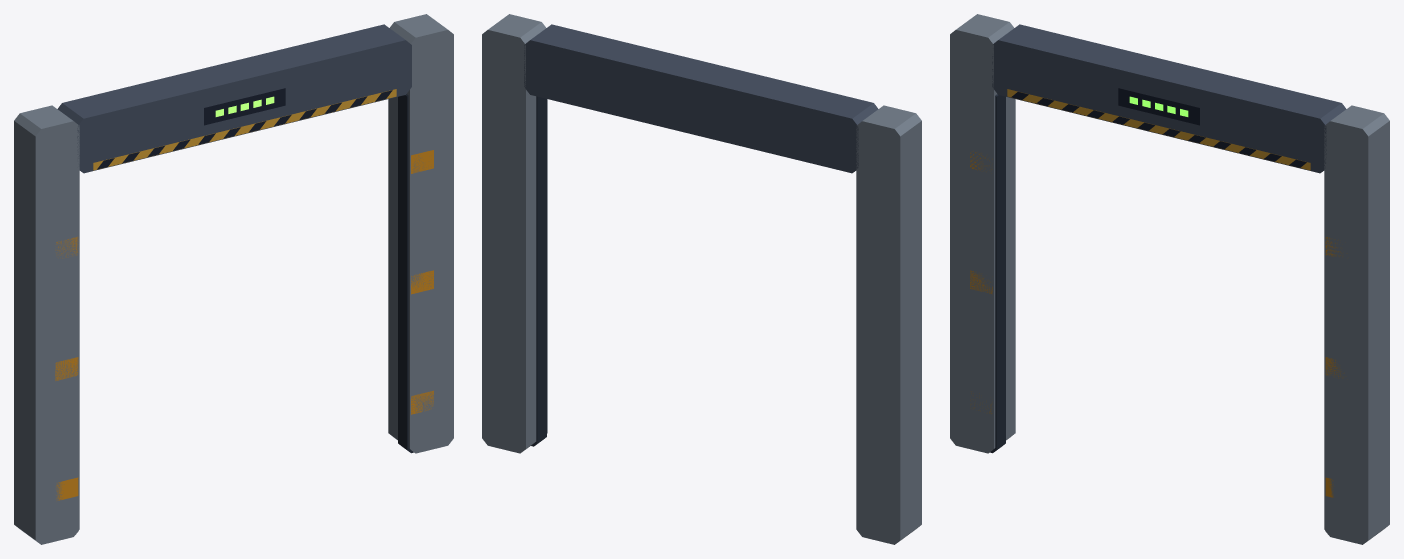
File: fus_blast_door_frame.glb
3 renders of one model, left to right at view 1: azimuth 30°, elevation 25°; view 2: azimuth 150°, elevation 25°; view 3: azimuth 330°, elevation 25°, orthographic.
Visible parts, largest first — view 1: armored_jamb, pressure_header, retracted_leaf, pressure_display, locking_dog, warning_band; view 2: armored_jamb, pressure_header, retracted_leaf; view 3: armored_jamb, pressure_header, retracted_leaf, pressure_display, warning_band, locking_dog.
Part boxes in pixels (bbox=[...]): armored_jamb: bbox=[14, 14, 453, 544]; pressure_header: bbox=[57, 24, 411, 173]; retracted_leaf: bbox=[77, 94, 413, 532]; pressure_display: bbox=[97, 88, 392, 169]; locking_dog: bbox=[55, 150, 433, 500]; warning_band: bbox=[93, 89, 396, 170]; armored_jamb: bbox=[482, 14, 921, 544]; pressure_header: bbox=[524, 24, 878, 173]; retracted_leaf: bbox=[531, 96, 546, 446]; armored_jamb: bbox=[950, 14, 1389, 544]; pressure_header: bbox=[992, 24, 1346, 173]; retracted_leaf: bbox=[990, 94, 1326, 532]; pressure_display: bbox=[1011, 88, 1306, 167]; warning_band: bbox=[1007, 89, 1310, 170]; locking_dog: bbox=[970, 151, 1344, 497].
Size of the model in its own units: 4 by 3.8 by 0.36.
